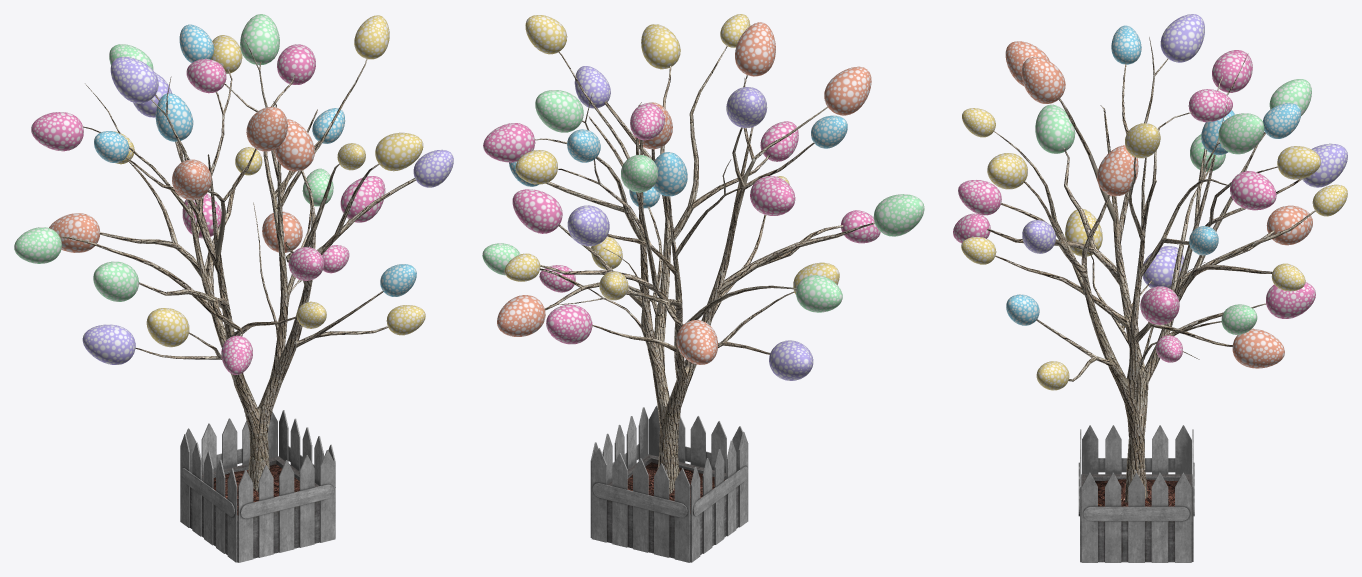
The model's file is EasterTree.obj.
3 views of the same model, side by side, from view 1: azimuth 30°, elevation 25°; view 2: azimuth 150°, elevation 25°; view 3: azimuth 270°, elevation 25° (orthographic). The views are drawn at different scales.
Visible parts, largest first — view 1: tree, Cube.002_Cube.005, Cube.008_Cube.012, Egg01.006_Sphere.006, Egg01.004_Sphere.004, Egg01.019_Sphere.020, Egg01.008_Sphere.008, Egg01.009_Sphere.009, Egg01.001_Sphere.001, Egg01.024_Sphere.025, Egg01.003_Sphere.003, Egg01.035_Sphere.036 (+27 smaller); view 2: tree, Cube.002_Cube.005, Cube.008_Cube.012, Egg01_Sphere.010, Egg01.001_Sphere.001, Egg01.033_Sphere.034, Egg01.009_Sphere.009, Egg01.008_Sphere.008, Egg01.002_Sphere.002, Egg01.023_Sphere.024, Egg01.003_Sphere.003, Egg01.020_Sphere.021 (+25 smaller); view 3: tree, Cube.002_Cube.005, Cube.008_Cube.012, Egg01.006_Sphere.006, Egg01.002_Sphere.002, Egg01.001_Sphere.001, Egg01.035_Sphere.036, Egg01.009_Sphere.009, Egg01.008_Sphere.008, Egg01.023_Sphere.024, Egg01.019_Sphere.020, Egg01.003_Sphere.003 (+28 smaller).
Boxes of the visible parts, x1=… form: tree: x1=60, y1=33, x2=416, y2=492; Cube.002_Cube.005: x1=180, y1=410, x2=335, y2=562; Cube.008_Cube.012: x1=190, y1=456, x2=319, y2=562; Egg01.006_Sphere.006: x1=110, y1=57, x2=158, y2=103; Egg01.004_Sphere.004: x1=82, y1=324, x2=135, y2=364; Egg01.019_Sphere.020: x1=31, y1=112, x2=83, y2=151; Egg01.008_Sphere.008: x1=240, y1=14, x2=279, y2=65; Egg01.009_Sphere.009: x1=93, y1=261, x2=138, y2=301; Egg01.001_Sphere.001: x1=246, y1=107, x2=287, y2=151; Egg01.024_Sphere.025: x1=375, y1=132, x2=423, y2=171; Egg01.003_Sphere.003: x1=49, y1=213, x2=99, y2=252; Egg01.035_Sphere.036: x1=274, y1=119, x2=314, y2=171; tree: x1=535, y1=45, x2=874, y2=493; Cube.002_Cube.005: x1=590, y1=405, x2=748, y2=562; Cube.008_Cube.012: x1=607, y1=454, x2=738, y2=562; Egg01_Sphere.010: x1=824, y1=66, x2=871, y2=115; Egg01.001_Sphere.001: x1=735, y1=22, x2=775, y2=76; Egg01.033_Sphere.034: x1=512, y1=189, x2=562, y2=233; Egg01.009_Sphere.009: x1=873, y1=194, x2=924, y2=236; Egg01.008_Sphere.008: x1=535, y1=90, x2=583, y2=132; Egg01.002_Sphere.002: x1=497, y1=295, x2=545, y2=336; Egg01.023_Sphere.024: x1=483, y1=123, x2=535, y2=162; Egg01.003_Sphere.003: x1=676, y1=320, x2=718, y2=364; Egg01.020_Sphere.021: x1=546, y1=304, x2=592, y2=344; tree: x1=987, y1=37, x2=1315, y2=502; Cube.002_Cube.005: x1=1078, y1=425, x2=1194, y2=562; Cube.008_Cube.012: x1=1081, y1=474, x2=1192, y2=562; Egg01.006_Sphere.006: x1=1160, y1=14, x2=1204, y2=62; Egg01.002_Sphere.002: x1=1232, y1=328, x2=1284, y2=368; Egg01.001_Sphere.001: x1=1021, y1=56, x2=1065, y2=103; Egg01.035_Sphere.036: x1=1097, y1=145, x2=1138, y2=196; Egg01.009_Sphere.009: x1=1035, y1=104, x2=1075, y2=153; Egg01.008_Sphere.008: x1=1218, y1=113, x2=1264, y2=154; Egg01.023_Sphere.024: x1=1230, y1=171, x2=1276, y2=210; Egg01.019_Sphere.020: x1=1212, y1=50, x2=1252, y2=92; Egg01.003_Sphere.003: x1=1266, y1=205, x2=1312, y2=245.
Size of the model in its own units: 2.94 by 3.86 by 2.92.
